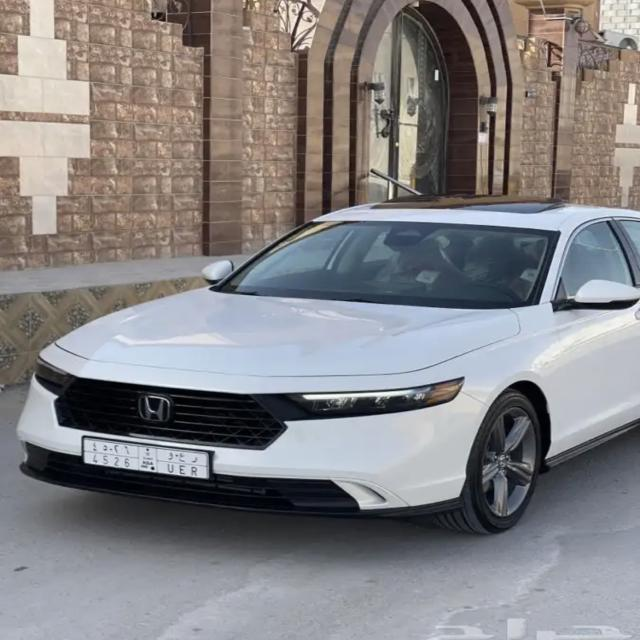license_plate: (80, 432, 212, 482)
